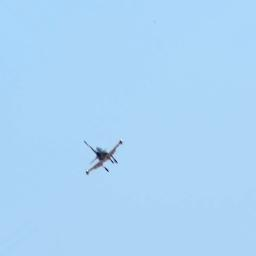Airplane: (82, 138, 126, 175)
